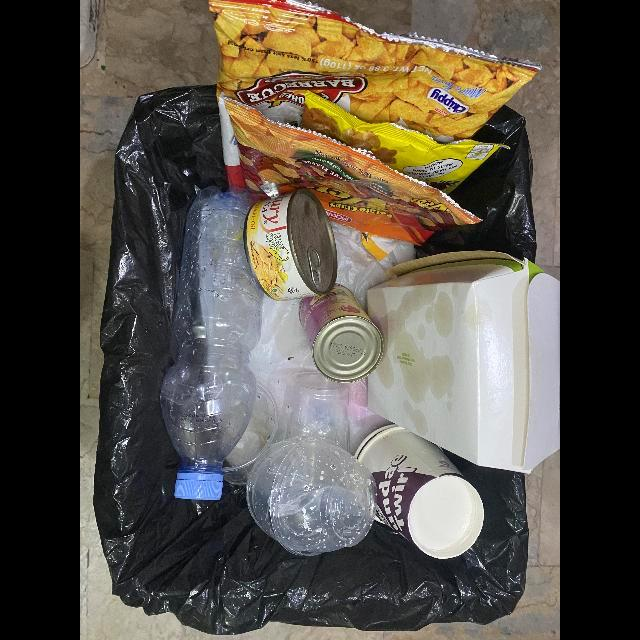aluminum: (243, 188, 336, 301), (297, 283, 384, 383)
cardboard: (366, 250, 560, 475), (355, 424, 485, 559)
food_wrapper: (209, 0, 543, 193), (222, 97, 482, 245), (297, 91, 501, 195)
plastic_bottle: (156, 185, 263, 502), (245, 436, 377, 555), (275, 370, 350, 451)
